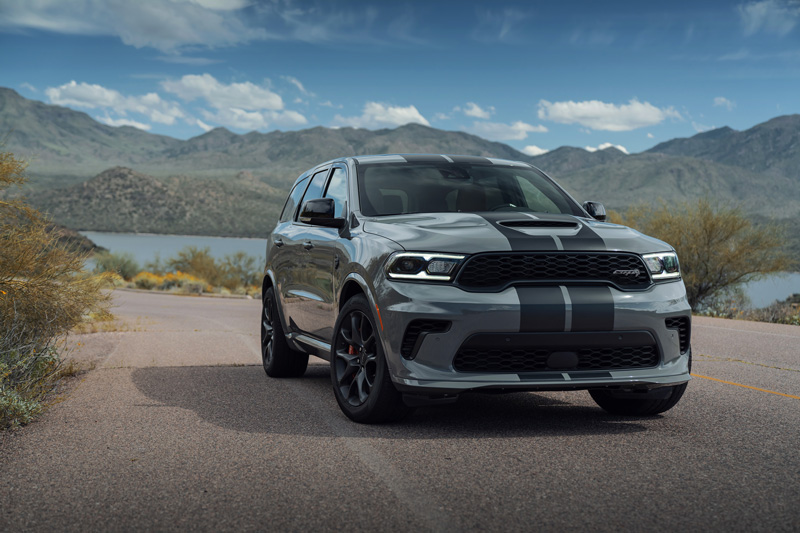car: (260, 152, 693, 423)
